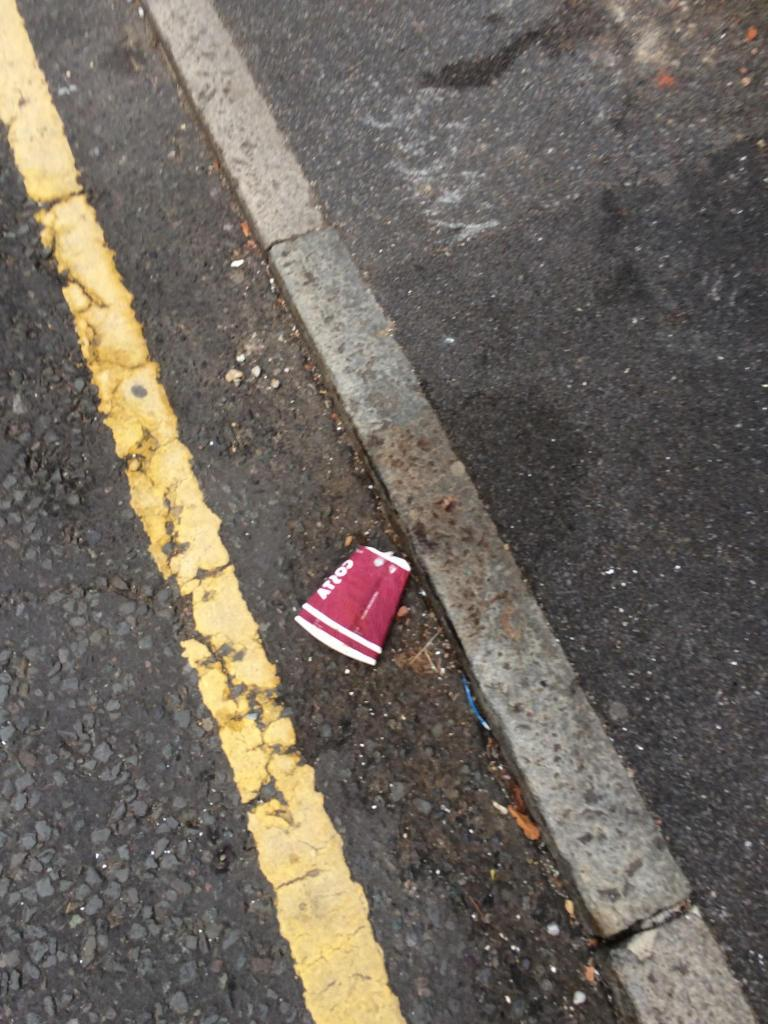garbage: (300, 516, 433, 692)
